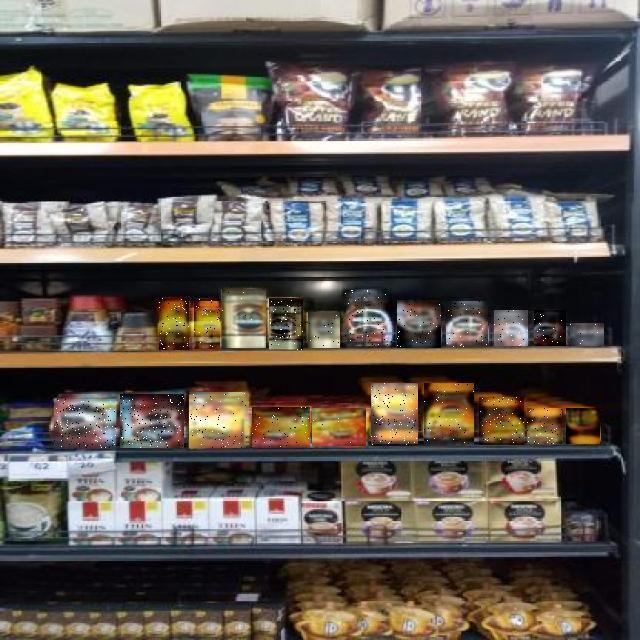Coffee: (121, 394, 185, 448), (190, 392, 248, 448), (424, 384, 474, 446), (55, 399, 117, 449), (371, 384, 418, 446), (345, 289, 392, 348), (222, 289, 266, 348), (252, 407, 310, 447), (479, 397, 524, 445), (397, 300, 441, 348), (312, 408, 366, 446), (446, 301, 488, 347), (269, 298, 303, 350), (159, 298, 189, 350), (194, 299, 220, 349), (527, 408, 562, 444), (494, 311, 528, 347), (566, 408, 600, 444), (534, 311, 566, 347), (308, 312, 340, 348), (570, 323, 604, 346)
